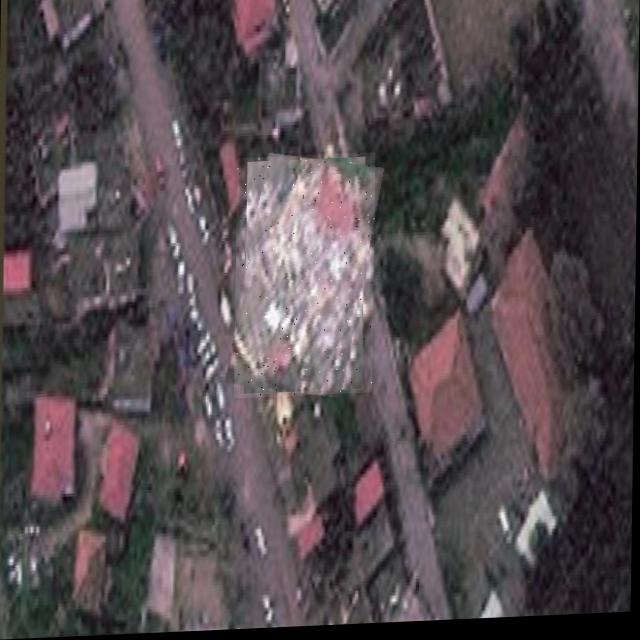Rubble: (234, 156, 375, 401)
